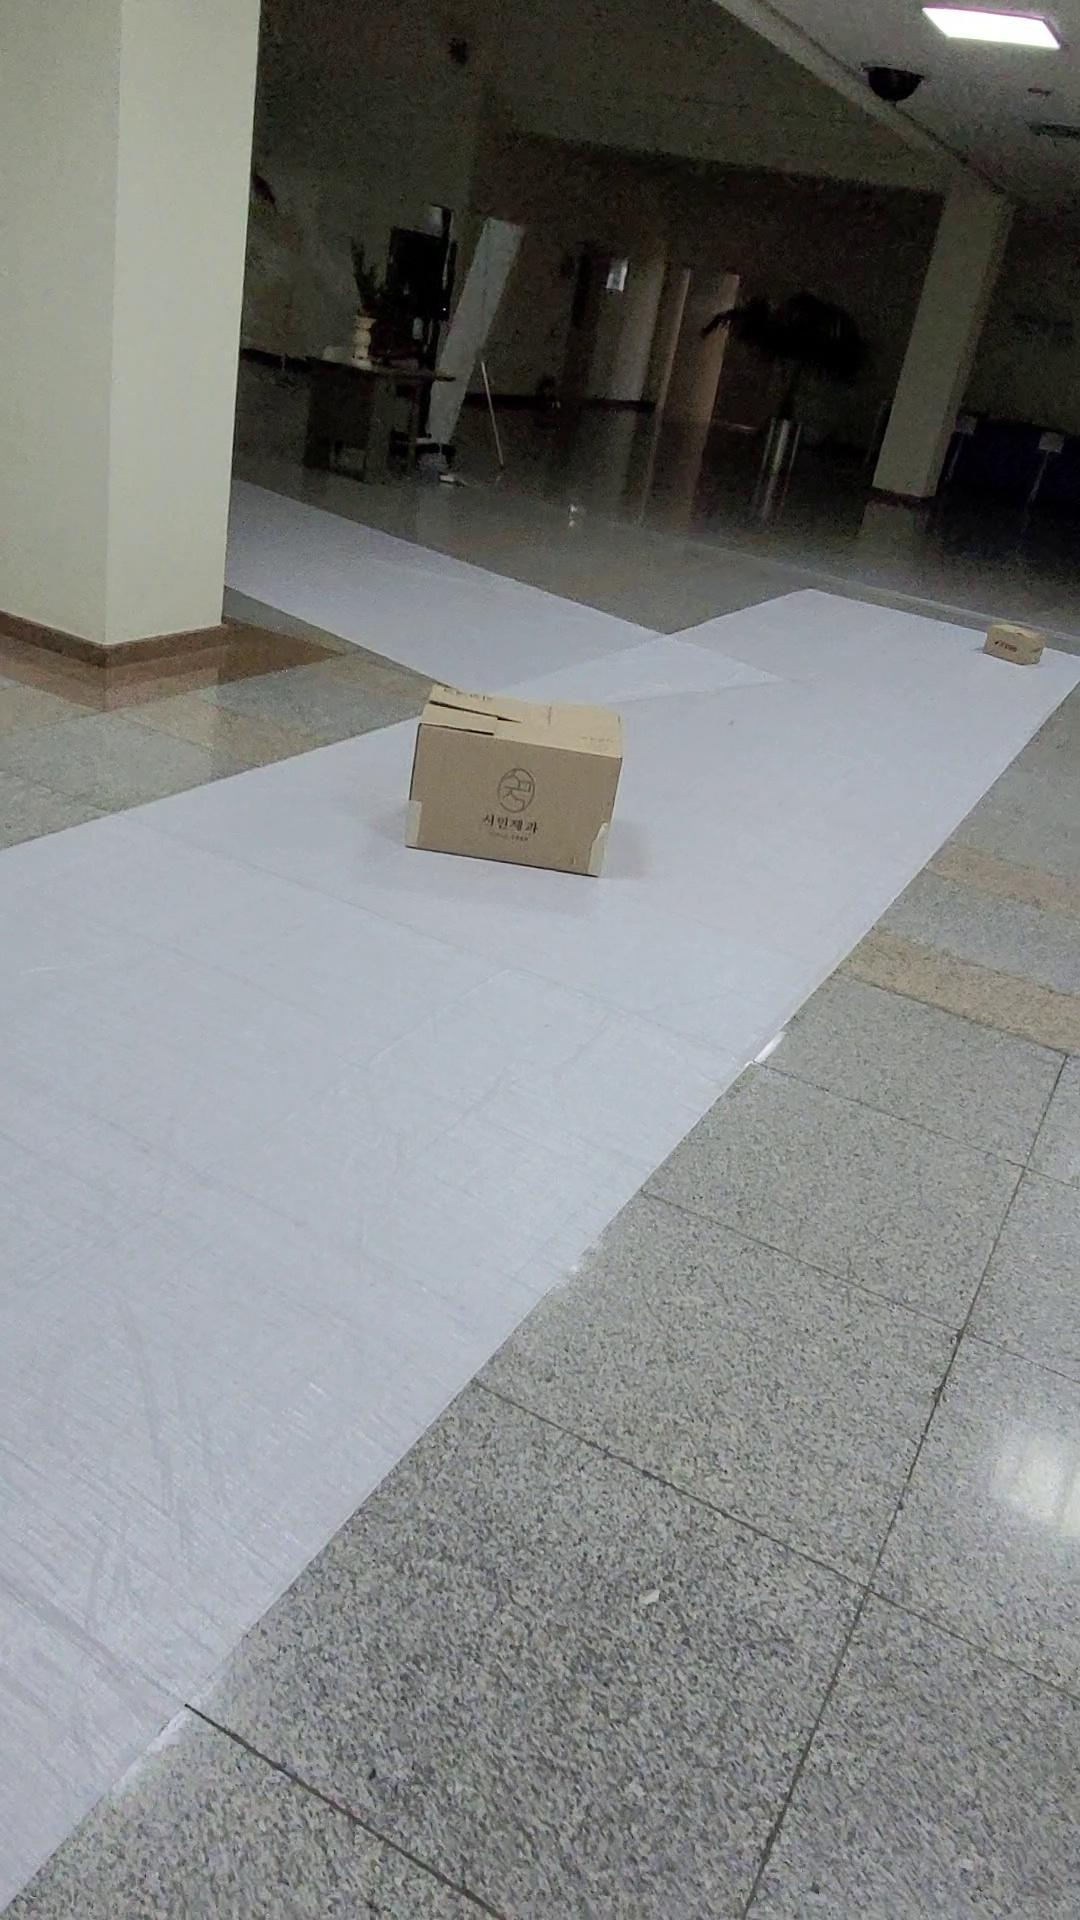Box: (368, 669, 665, 903), (967, 613, 1067, 700)
